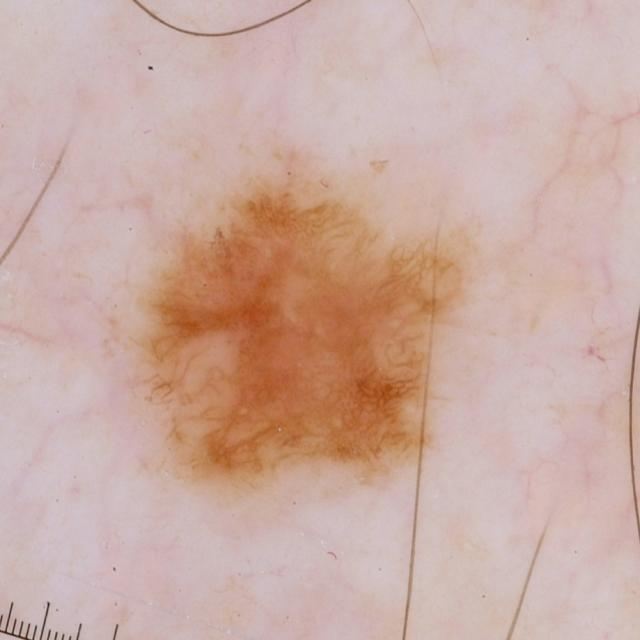Melanoma: (125, 166, 475, 512)
